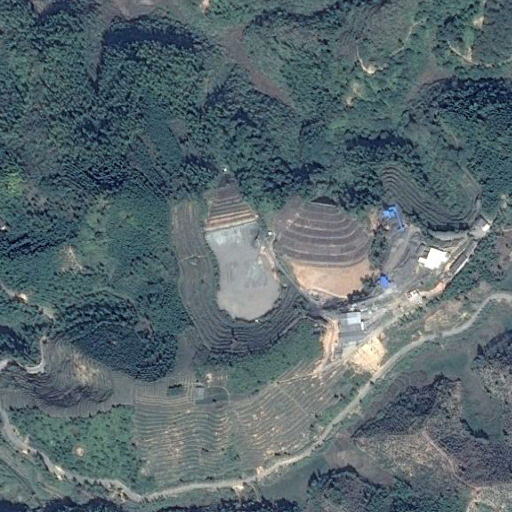tp: (204, 177, 280, 323), (278, 196, 371, 305)
